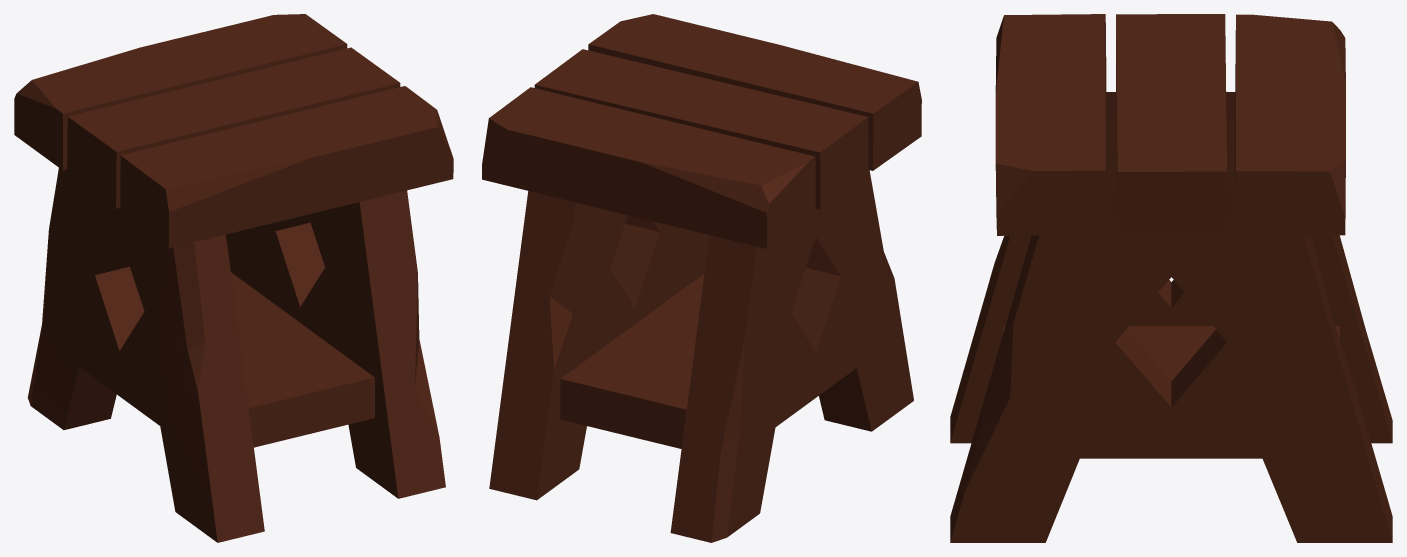
The model's file is Stool.fbx.
The picture shows the model from 3 angles, left to right: view 1: azimuth 30°, elevation 25°; view 2: azimuth 150°, elevation 25°; view 3: azimuth 270°, elevation 25°; orthographic projection. The views are drawn at different scales.
Parts seen in each view (by area): view 1: Stool; view 2: Stool; view 3: Stool.
Part boxes in pixels (bbox=[...]): Stool: bbox=[14, 14, 453, 542]; Stool: bbox=[482, 14, 921, 542]; Stool: bbox=[950, 14, 1392, 542].
Bounding box in the file's own units: 14.68 × 16.9 × 17.48.
